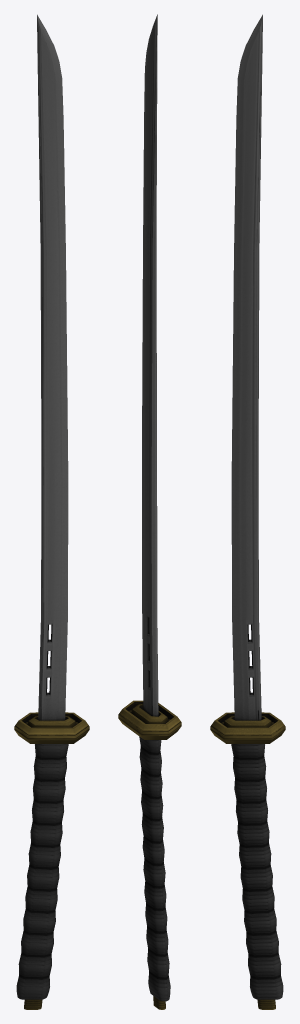
The model's file is Katana-(COLLADA_2 (COLLAborative Design Activity)).dae.
The picture shows the model from 3 angles, left to right: view 1: azimuth 90°, elevation 25°; view 2: azimuth 210°, elevation 25°; view 3: azimuth 270°, elevation 25°; orthographic projection.
Parts seen in each view (by area): view 1: Katana; view 2: Katana; view 3: Katana.
Boxes of the visible parts, <box> form: Katana: <box>14,14,89,1009</box>; Katana: <box>118,14,181,1009</box>; Katana: <box>210,14,285,1009</box>.
Bounding box in the file's own units: 0.2404 × 0.3912 × 5.72.
Materials: 1 (1 with a texture image).
